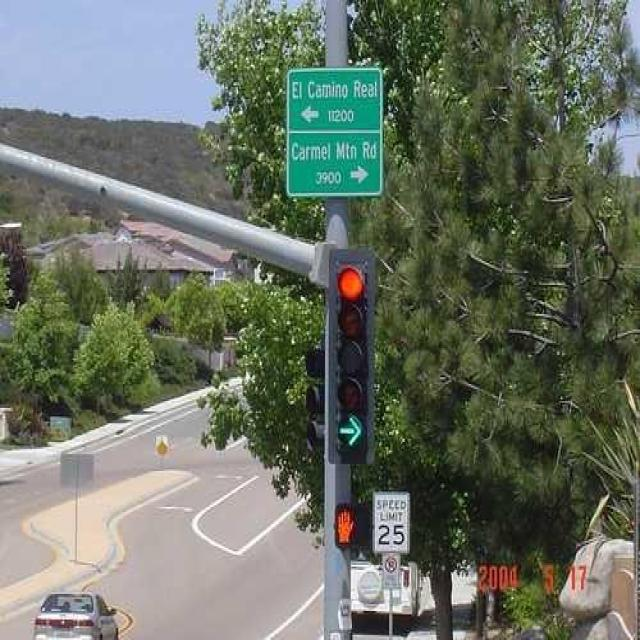Traffic Light -Green-: (332, 344, 376, 462)
Traffic Light -Red-: (333, 258, 371, 380)
